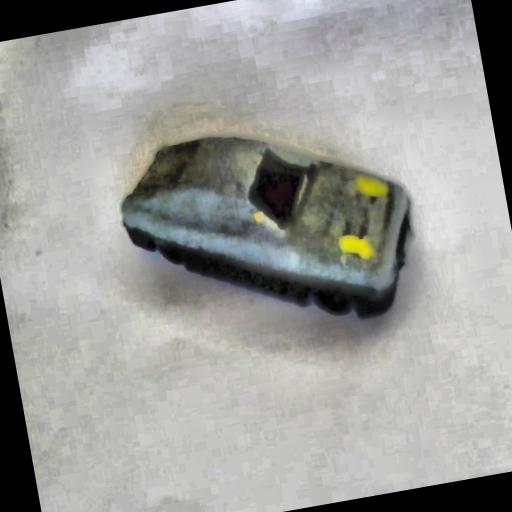normal_car: (106, 98, 433, 359)
